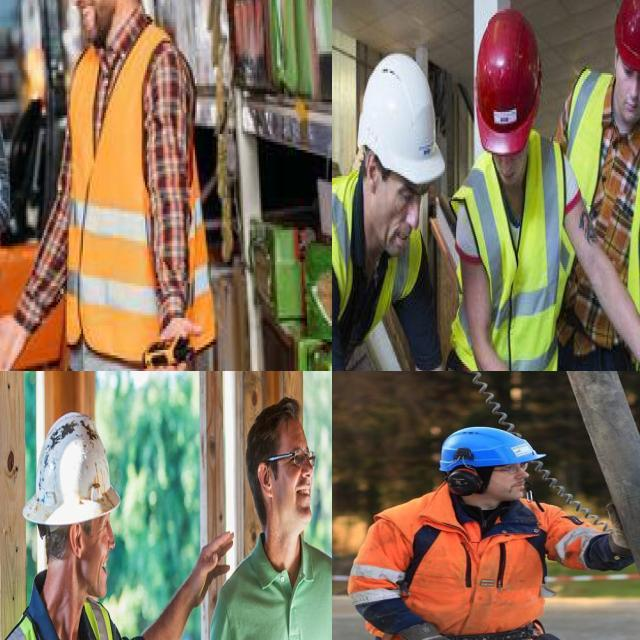No_Ear-Protection: (363, 146, 381, 197)
face_nomask: (380, 165, 428, 258), (272, 437, 320, 530), (460, 458, 534, 501), (58, 0, 115, 40), (613, 59, 640, 125)
glasses: (290, 440, 318, 472)
hand_noglove: (185, 526, 240, 598), (143, 318, 205, 371), (0, 318, 35, 371)
head_helmet: (358, 50, 445, 189), (24, 408, 120, 526), (473, 3, 542, 151), (441, 428, 539, 464), (613, 0, 640, 71)
head_nohelmet: (247, 387, 306, 437)
person: (47, 0, 210, 371), (332, 428, 550, 640), (455, 9, 576, 371), (332, 54, 459, 371), (0, 413, 165, 640), (199, 399, 332, 640), (564, 0, 640, 371)
vest: (60, 19, 204, 366), (348, 511, 589, 634), (465, 133, 574, 371), (564, 65, 640, 354), (332, 171, 419, 350)
